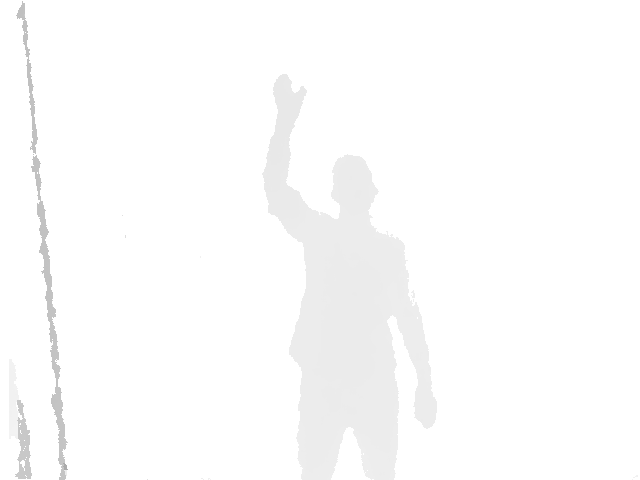hand: (272, 74, 307, 120)
hand_down: (413, 383, 438, 431)
head: (331, 155, 379, 216)
person: (261, 74, 439, 480)
